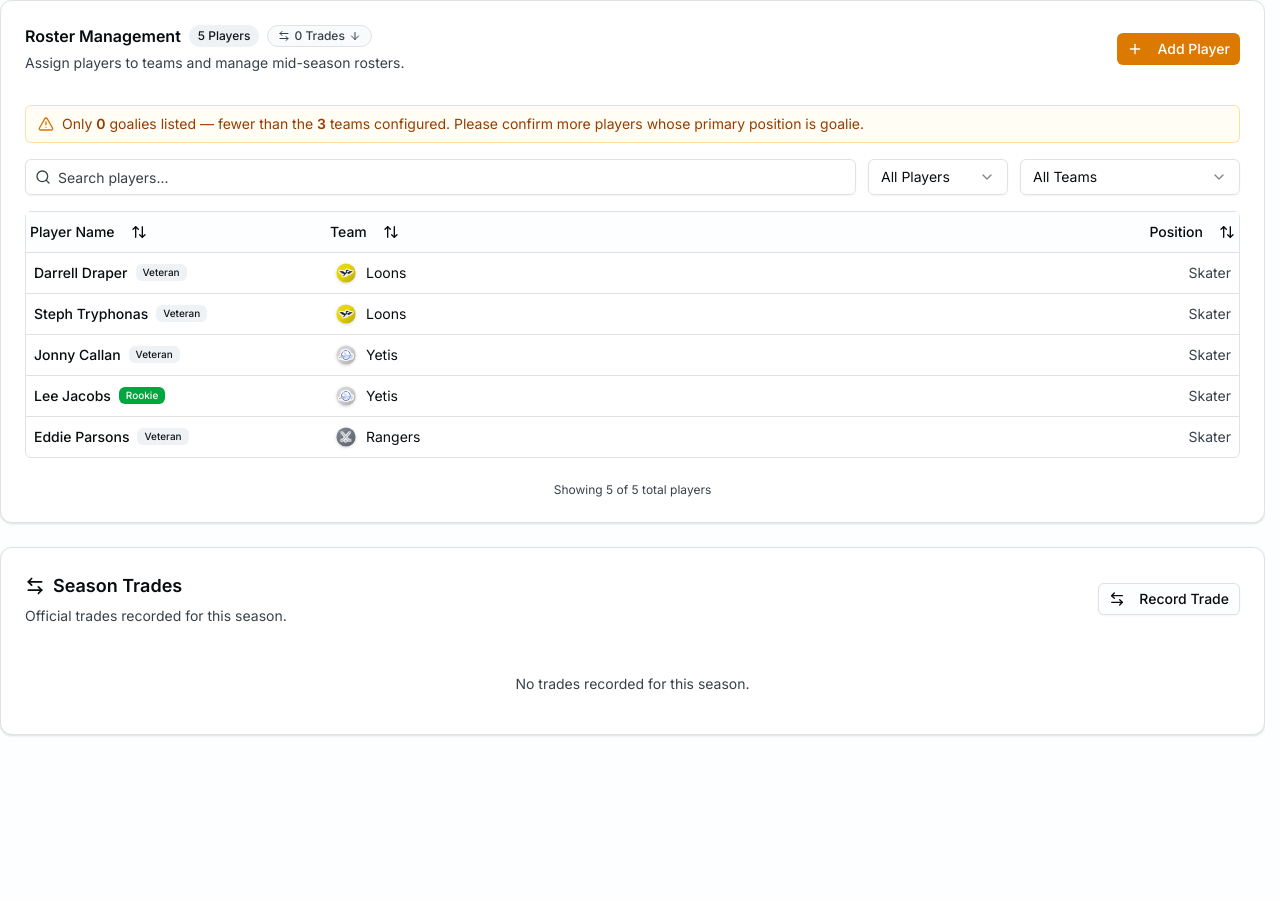
Test: SeasonRosterTab UI: Active Season Roster Editing & Trades › 2. Record Trade Modal Interaction & Submission › opens Record Trade modal and displays team selectors and player checklists
Step 1. Click the button "Record Trade" → (1169,598), box [1098, 582, 1240, 614]
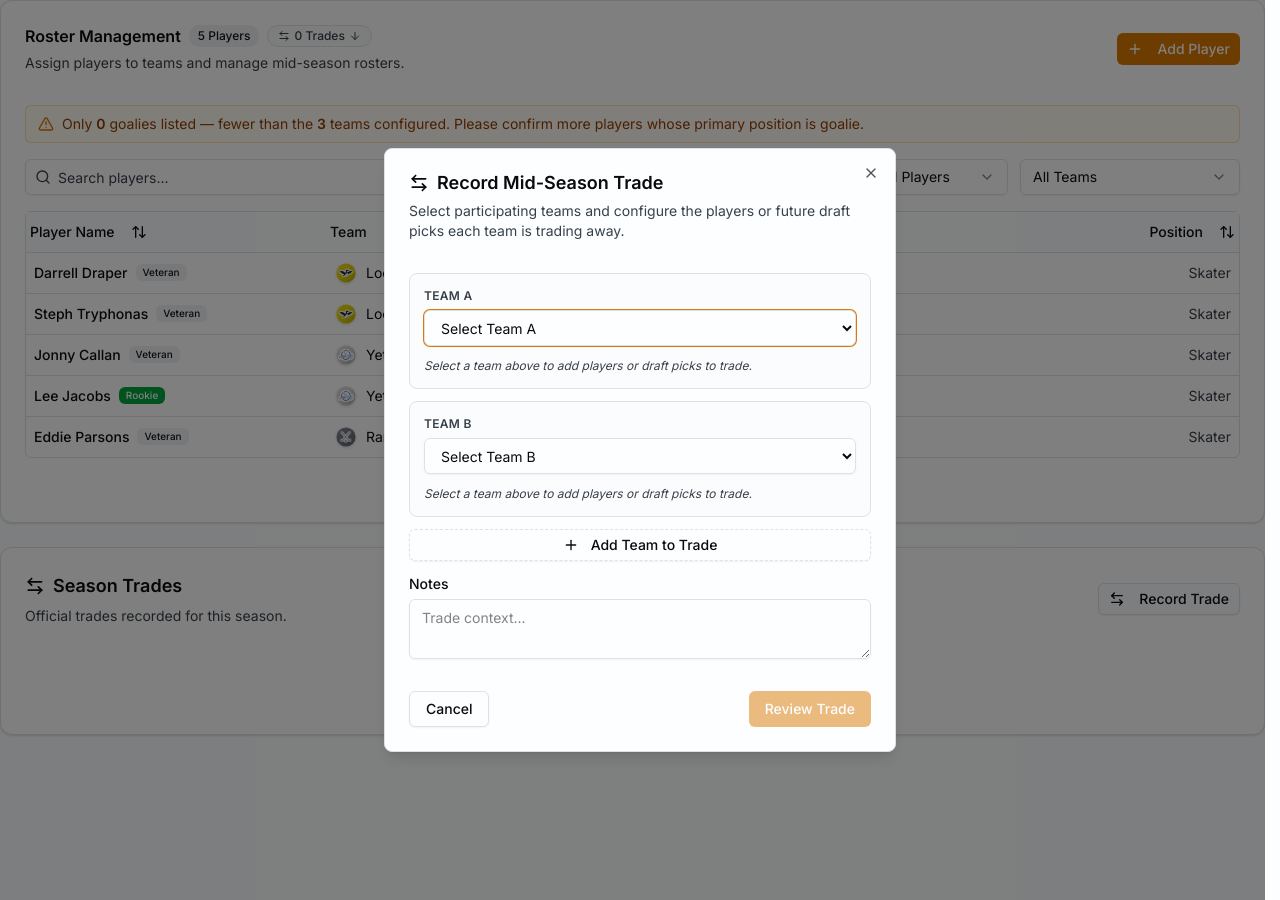
Check: the text "Record Mid-Season Trade" is shown, box [409, 172, 663, 193]
Check: the dropdown with id "teamA" is shown, box [424, 310, 856, 346]
Check: the dropdown with id "teamB" is shown, box [424, 438, 856, 474]
